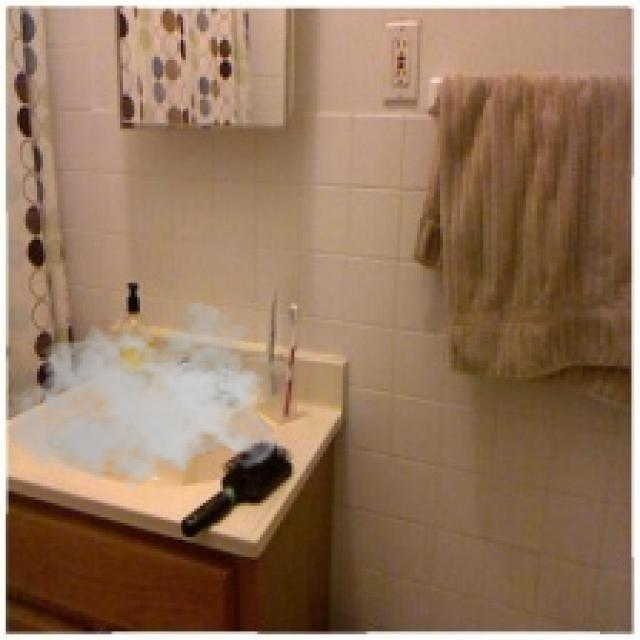Smoke: (6, 303, 283, 503)
